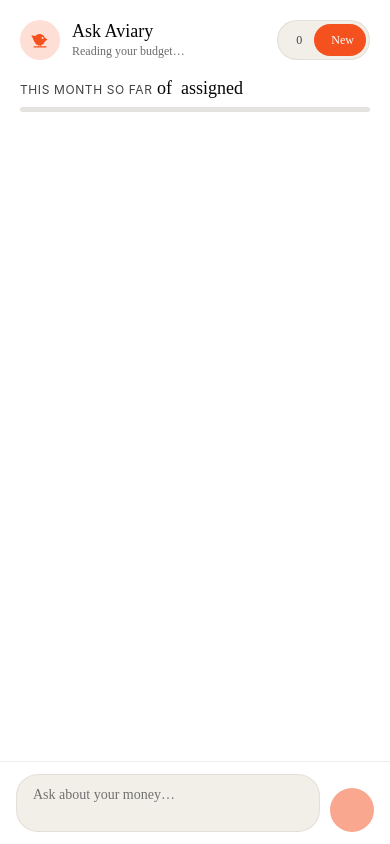
Test case: keeps the generic message for any other failure
In the text box with placeholder "Ask about your money…": (168, 803) [16, 774, 320, 832], type "how much on food?"
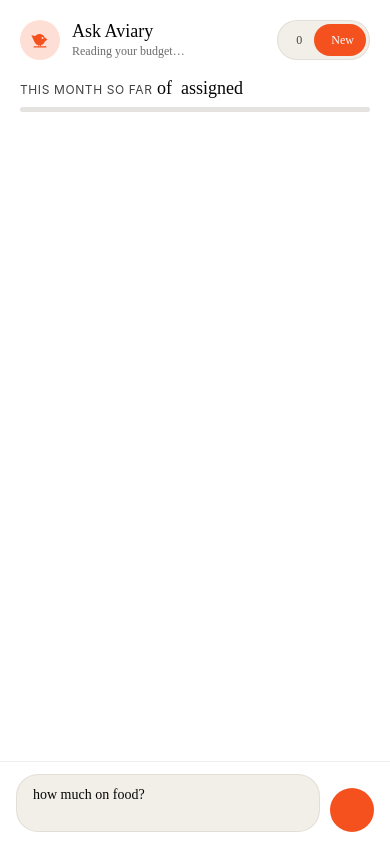
Press Enter in the text box with placeholder "Ask about your money…", box [16, 774, 320, 832]
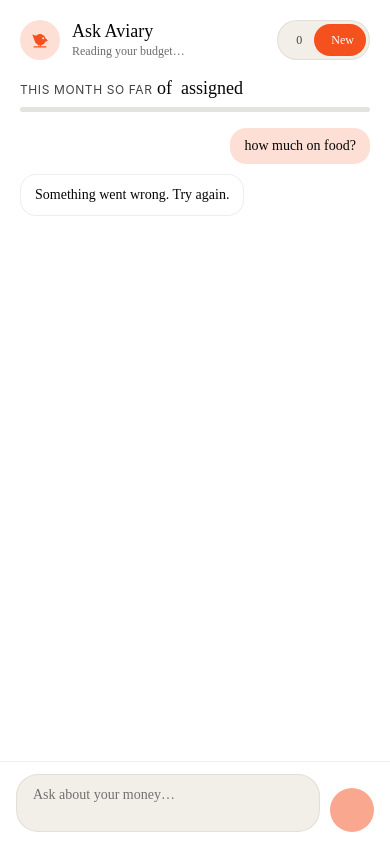
Expected: the text "Something went wrong. Try again." is shown, [35, 185, 230, 205]
